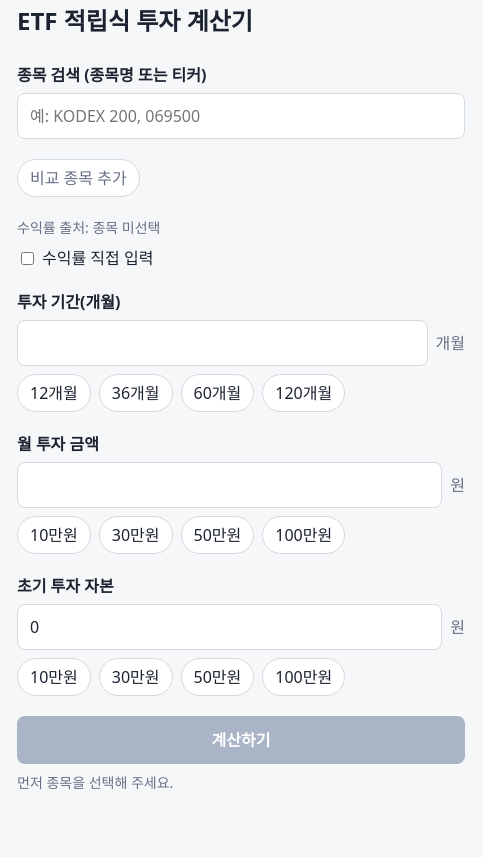
Test case: App › 종목 선택 → 입력 → 계산 결과 표시
This screenshot has width=483, height=857.
Type "테스트" into the dropdown at coordinates (241, 116), box [17, 93, 465, 139]
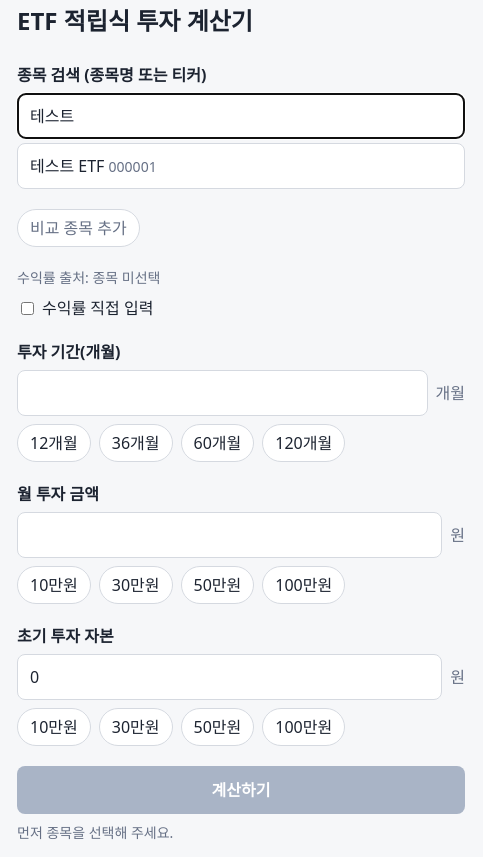
Click the option "테스트 ETF 000001" at coordinates (93, 166), box [30, 155, 157, 177]
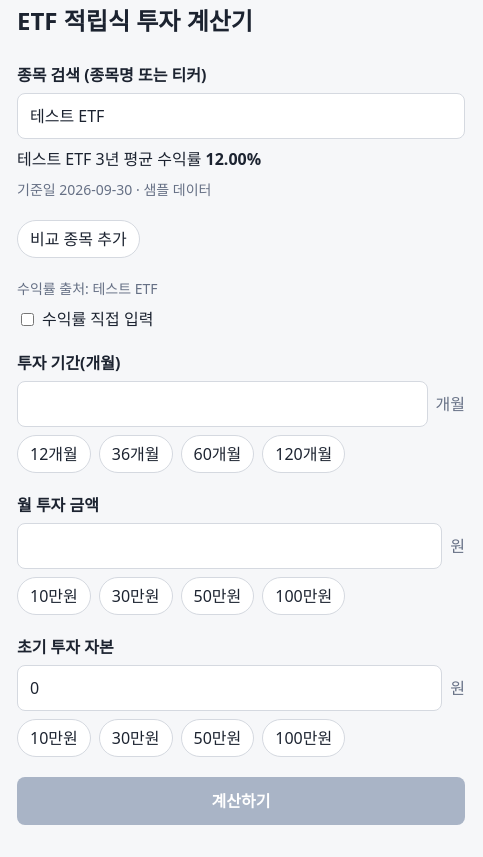
Type "12" into the field labelled "투자 기간(개월)" at coordinates (222, 404), box [17, 381, 428, 427]
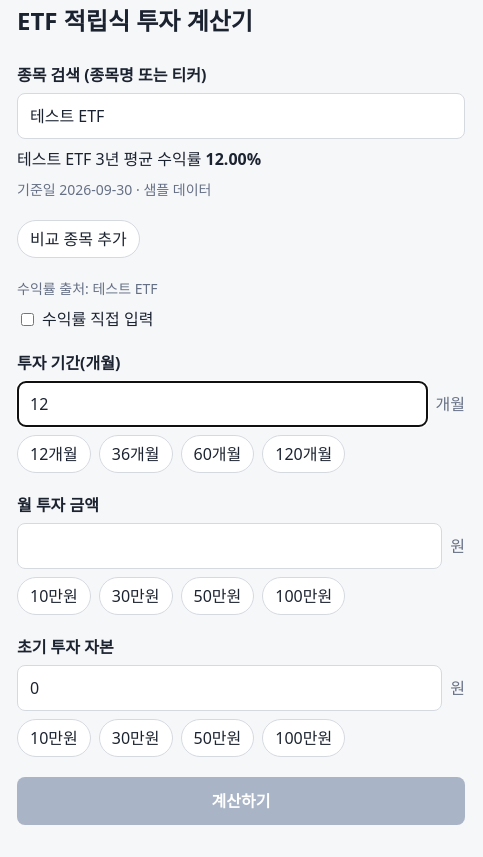
Type "100000" into the field labelled "월 투자 금액" at coordinates (230, 546), box [17, 523, 442, 569]
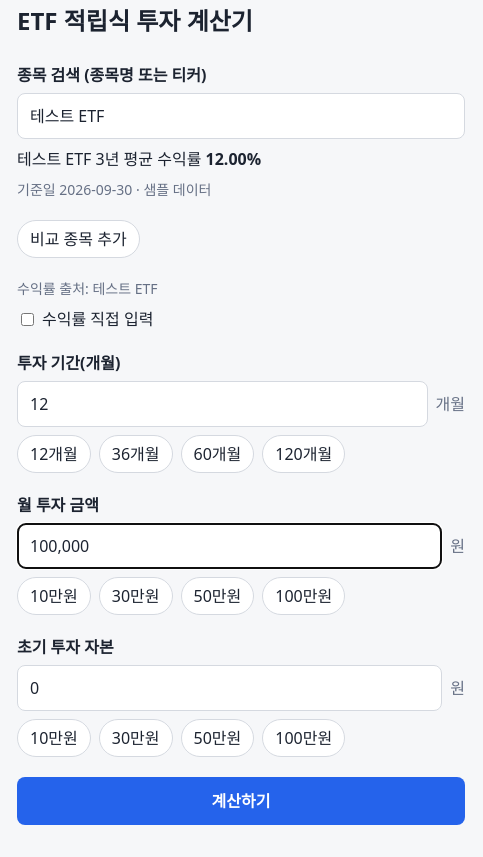
Replace the text in the field labelled "초기 투자 자본" with "1000000" at coordinates (230, 688), box [17, 665, 442, 711]
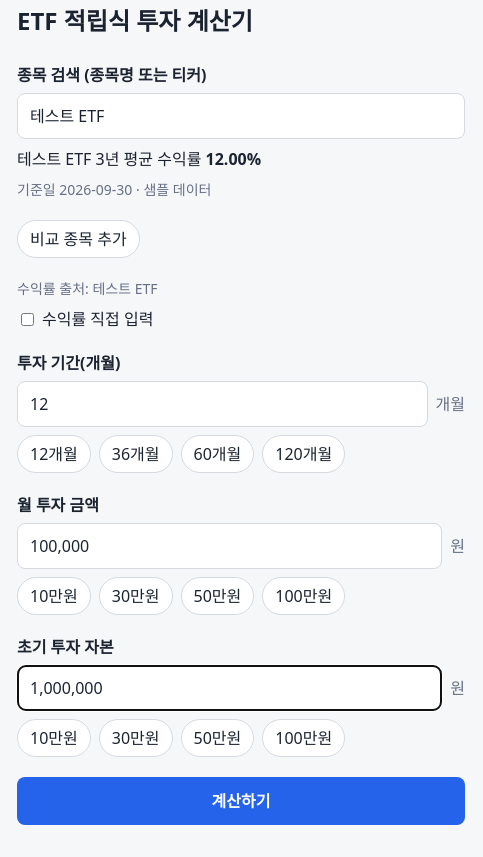
Click the button "계산하기" at coordinates (241, 801), box [17, 777, 465, 825]
(page scrolled)
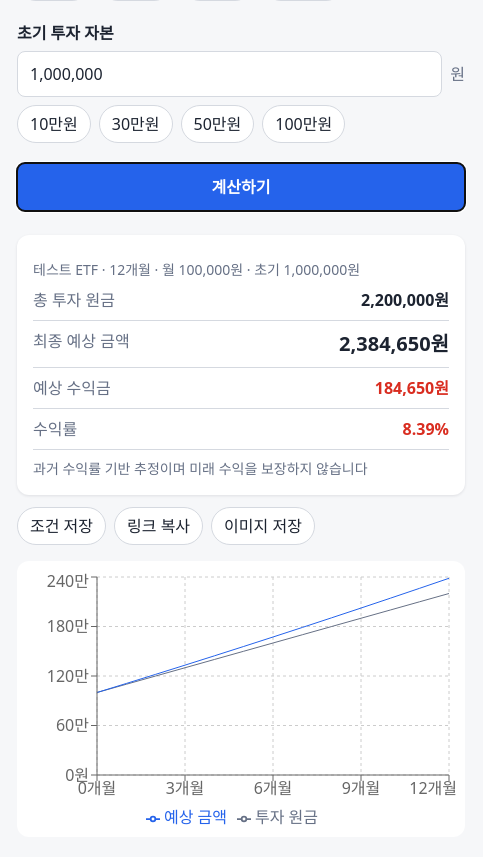
Result: the text "2,384,650원" is shown at [339, 329, 449, 359]
Result: the text "2,200,000원" is shown at [361, 288, 449, 312]
Result: the text "8.39%" is shown at [403, 417, 449, 441]
